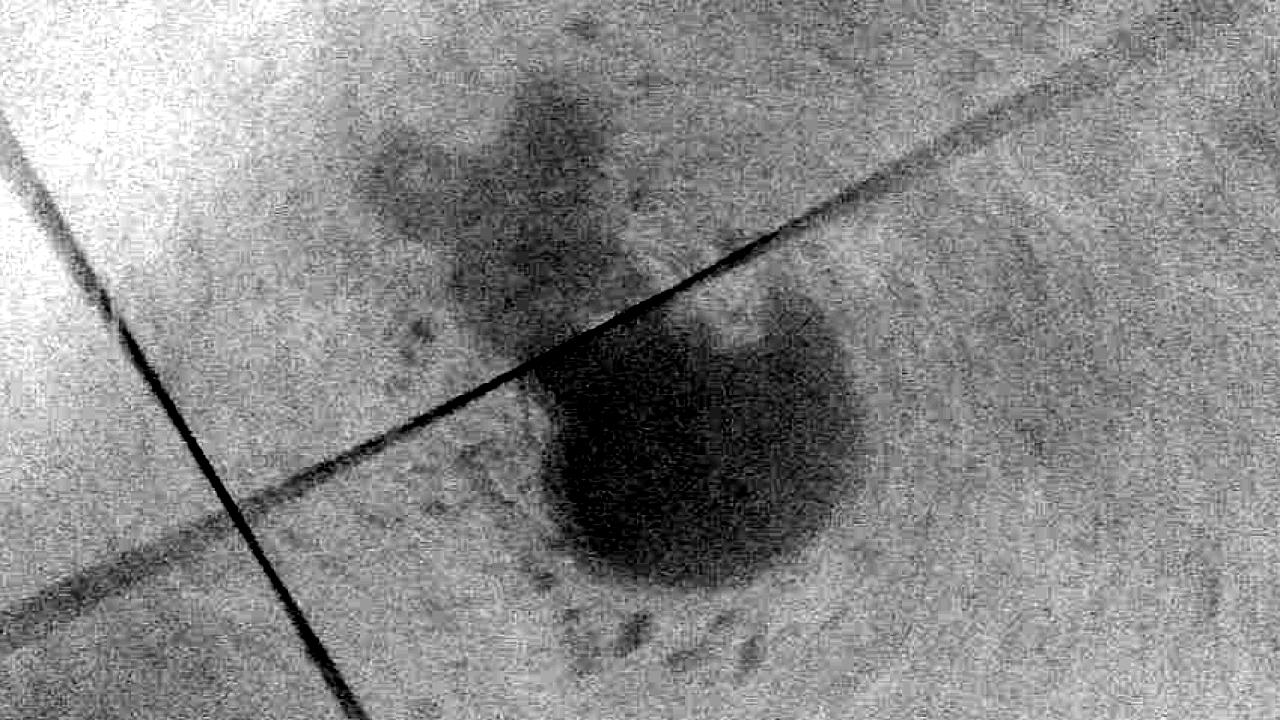drinks Stains: (371, 69, 862, 588)
